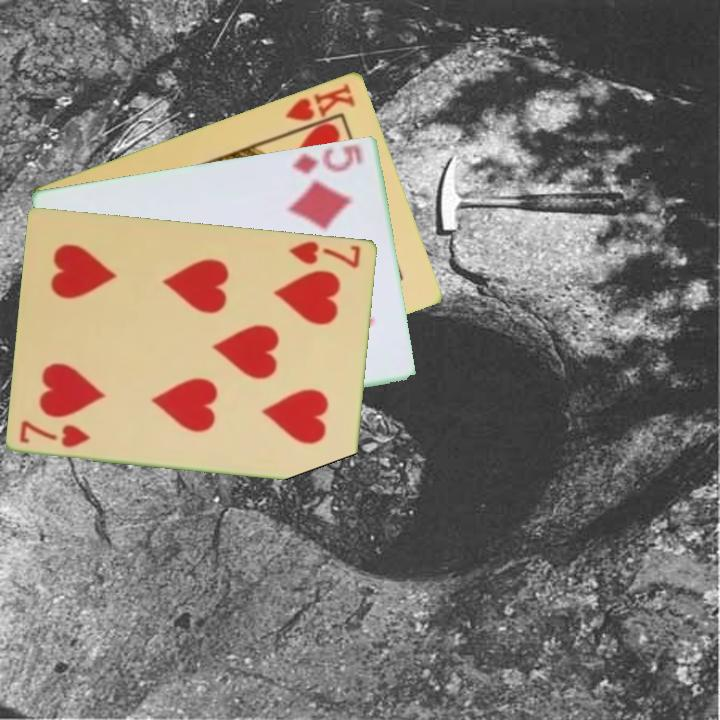5d: (289, 140, 365, 176)
7h: (286, 237, 364, 271), (16, 416, 94, 450)
Kh: (282, 78, 359, 135)
